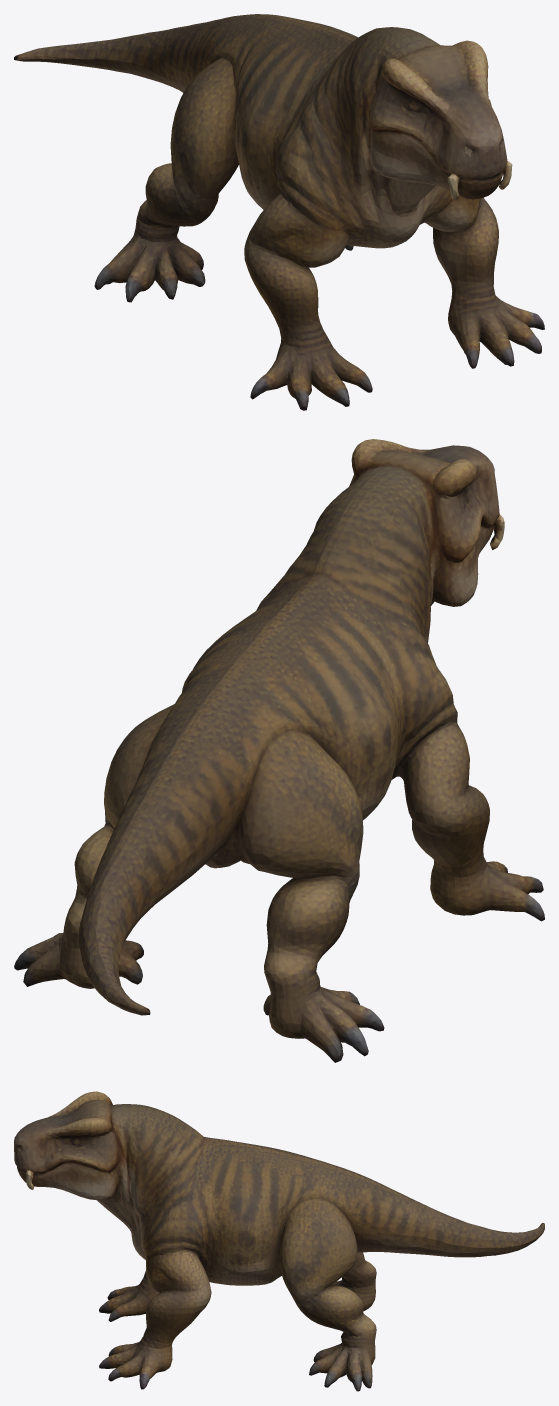
The picture shows the model from 3 angles, top to bottom: view 1: azimuth 30°, elevation 25°; view 2: azimuth 150°, elevation 25°; view 3: azimuth 270°, elevation 25°; orthographic projection. The views are drawn at different scales.
Visible parts, largest first — view 1: world; view 2: world; view 3: world.
Part boxes in pixels (<box>): world: <box>14,14,544,410</box>; world: <box>14,439,544,1062</box>; world: <box>14,1091,544,1391</box>.
Size of the model in its own units: 2.28 by 2.49 by 5.
1 material, 1 textured.
